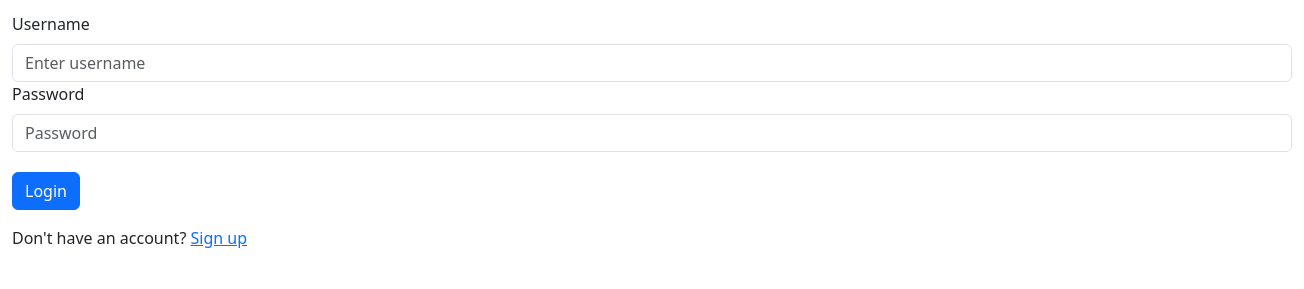
it: Login Component Accessibility › should handle errors gracefully
The image size is (1304, 289).
// Fill out the form
Type "testuser" into the field labelled "Username" at [652, 63], box [12, 44, 1292, 82]
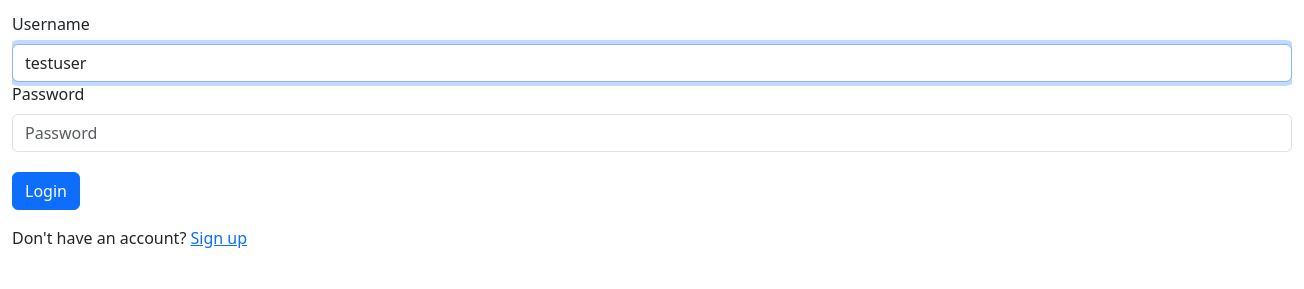
Type "wrongpassword" into the password field labelled "Password" at [652, 133], box [12, 114, 1292, 152]
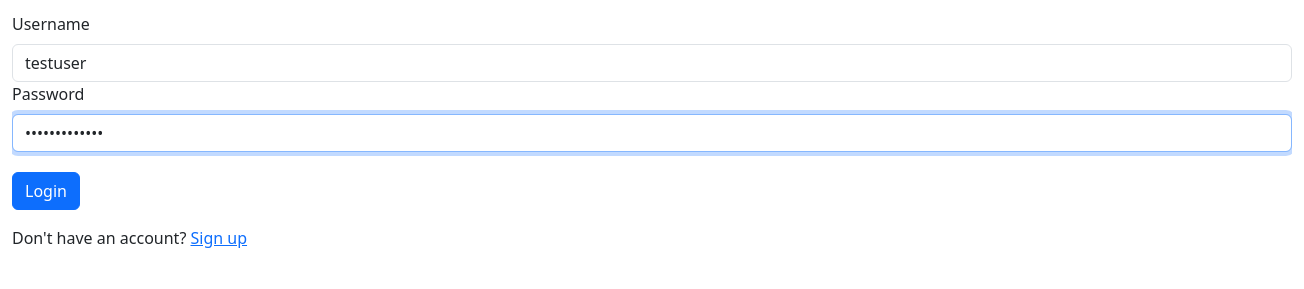
// Simulate login attempt
Submit the form from the button "Login", box [12, 172, 80, 210]
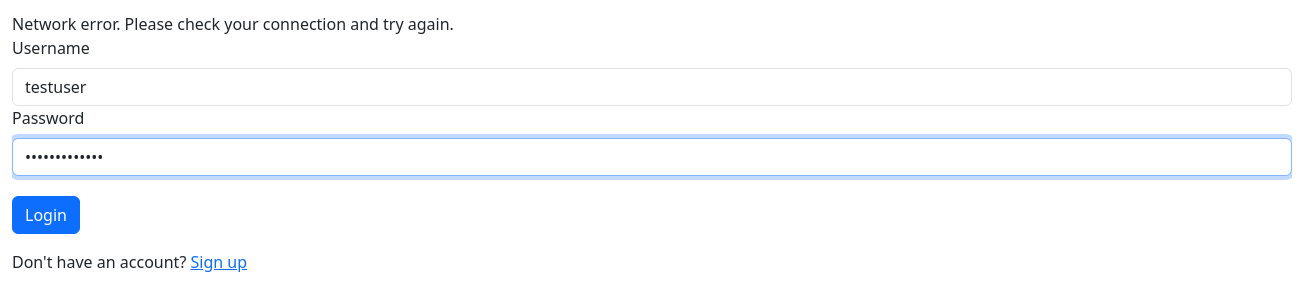
Now the text with test id "error-alert" shows "Network error", box [12, 13, 454, 35]
